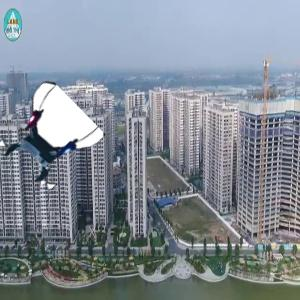drone: (2, 95, 94, 187)
